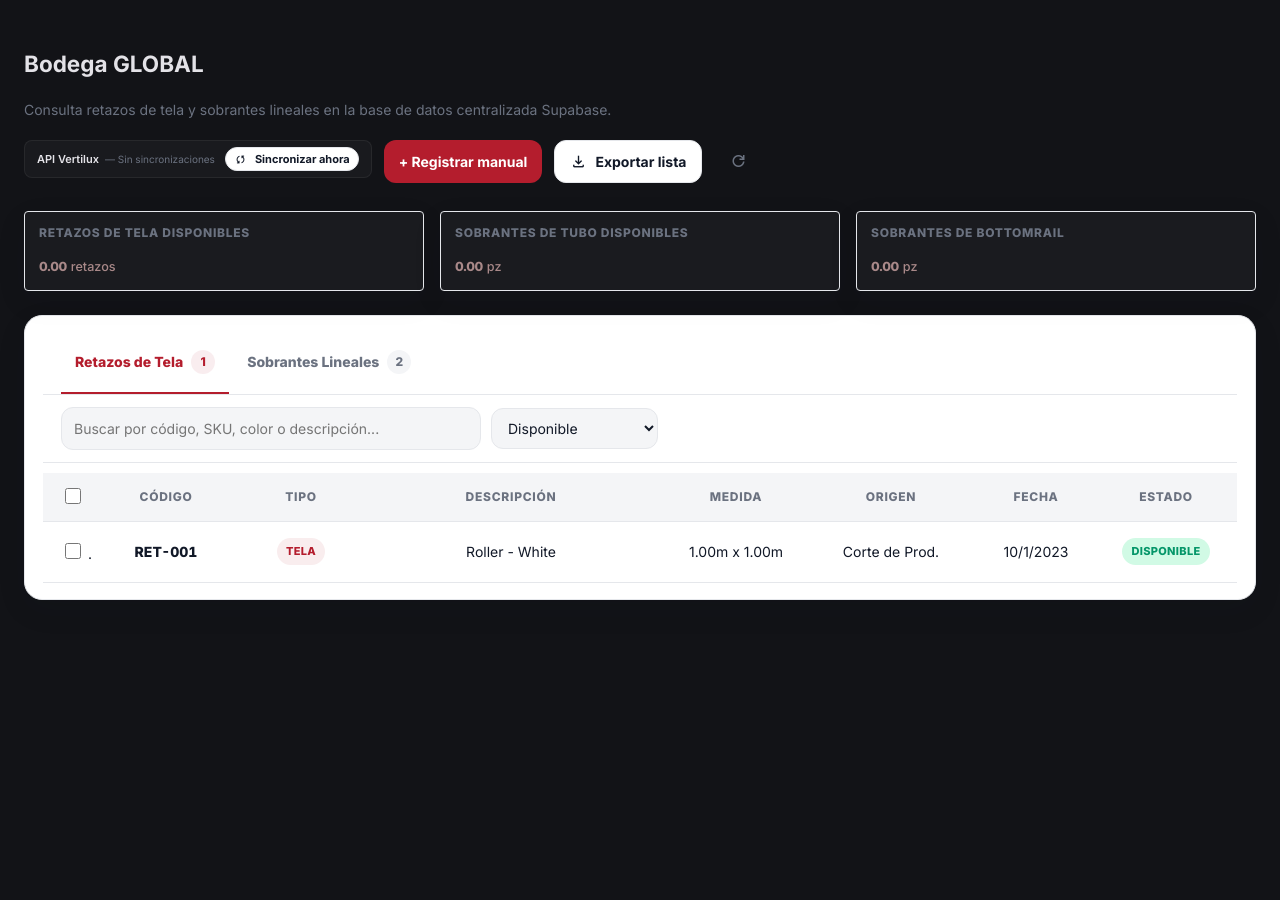
Test case: InventoryPanelV2 (Bodega 3.0) › seleccionar fila muestra bulk bar
Click the checkbox named "Seleccionar RET-001": coordinates (73, 551) [65,543,81,559]
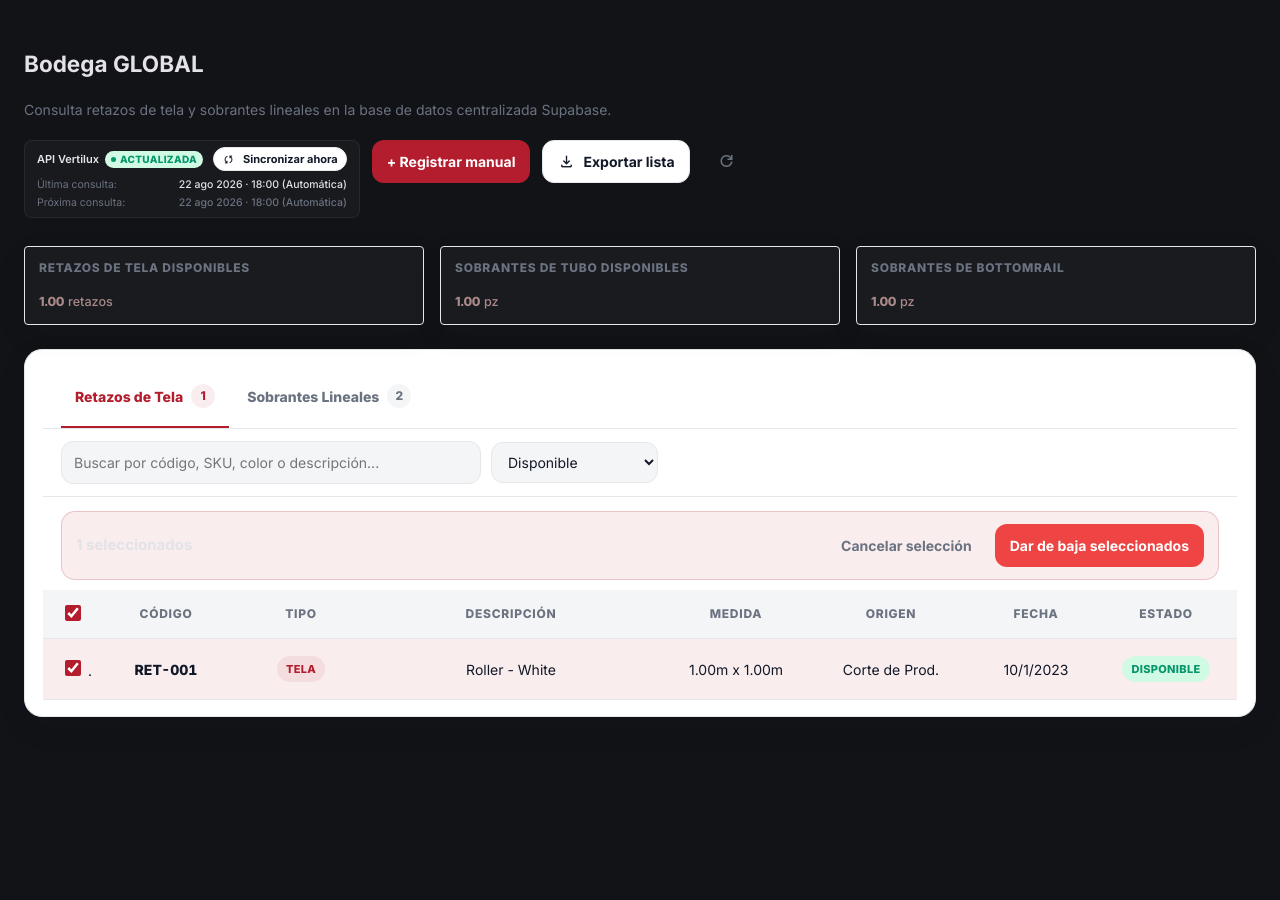
Check: the element "1 seleccionados Cancelar selección Dar de baja seleccionados" is shown, box [61,511,1219,580]
